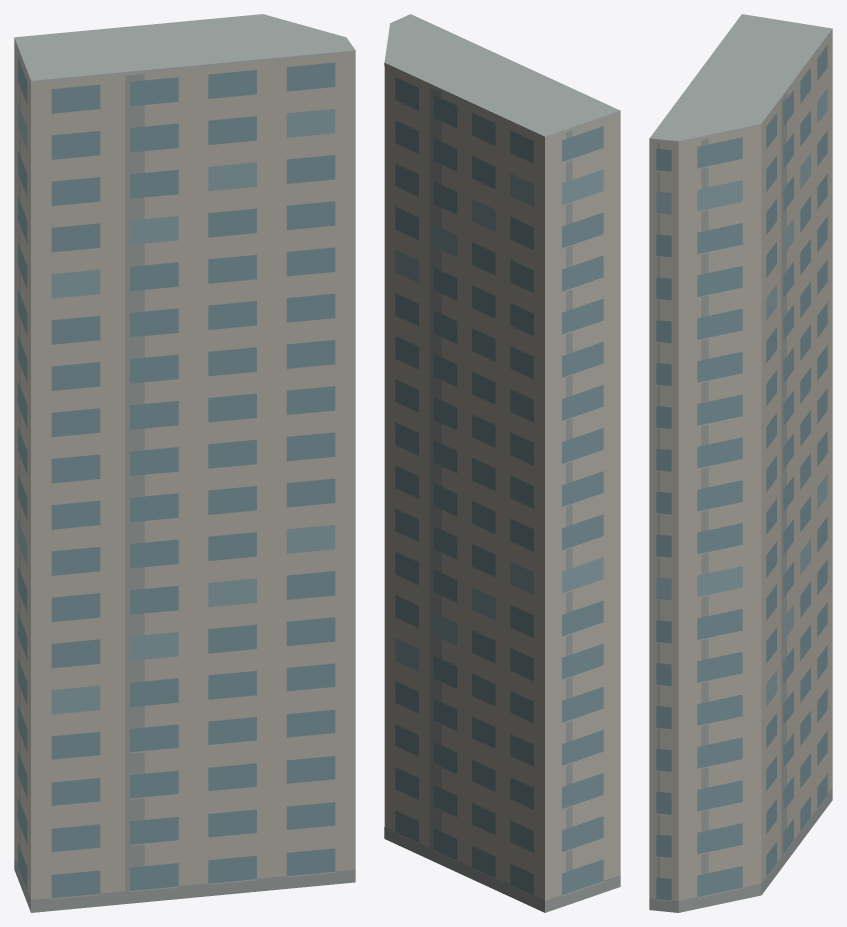
The model's file is survey-upis-32529165.glb.
3 views of the same model, side by side, from view 1: azimuth 30°, elevation 25°; view 2: azimuth 150°, elevation 25°; view 3: azimuth 270°, elevation 25° (orthographic). The views are drawn at different scales.
Parts seen in each view (by area): view 1: survey-upis-32529165.tmp; view 2: survey-upis-32529165.tmp; view 3: survey-upis-32529165.tmp.
Part boxes in pixels (x1,y1,x2,y2): survey-upis-32529165.tmp: (14, 14, 355, 912); survey-upis-32529165.tmp: (384, 14, 620, 912); survey-upis-32529165.tmp: (649, 14, 832, 912).
Bounding box in the file's own units: 19.42 × 54.9 × 11.82.
